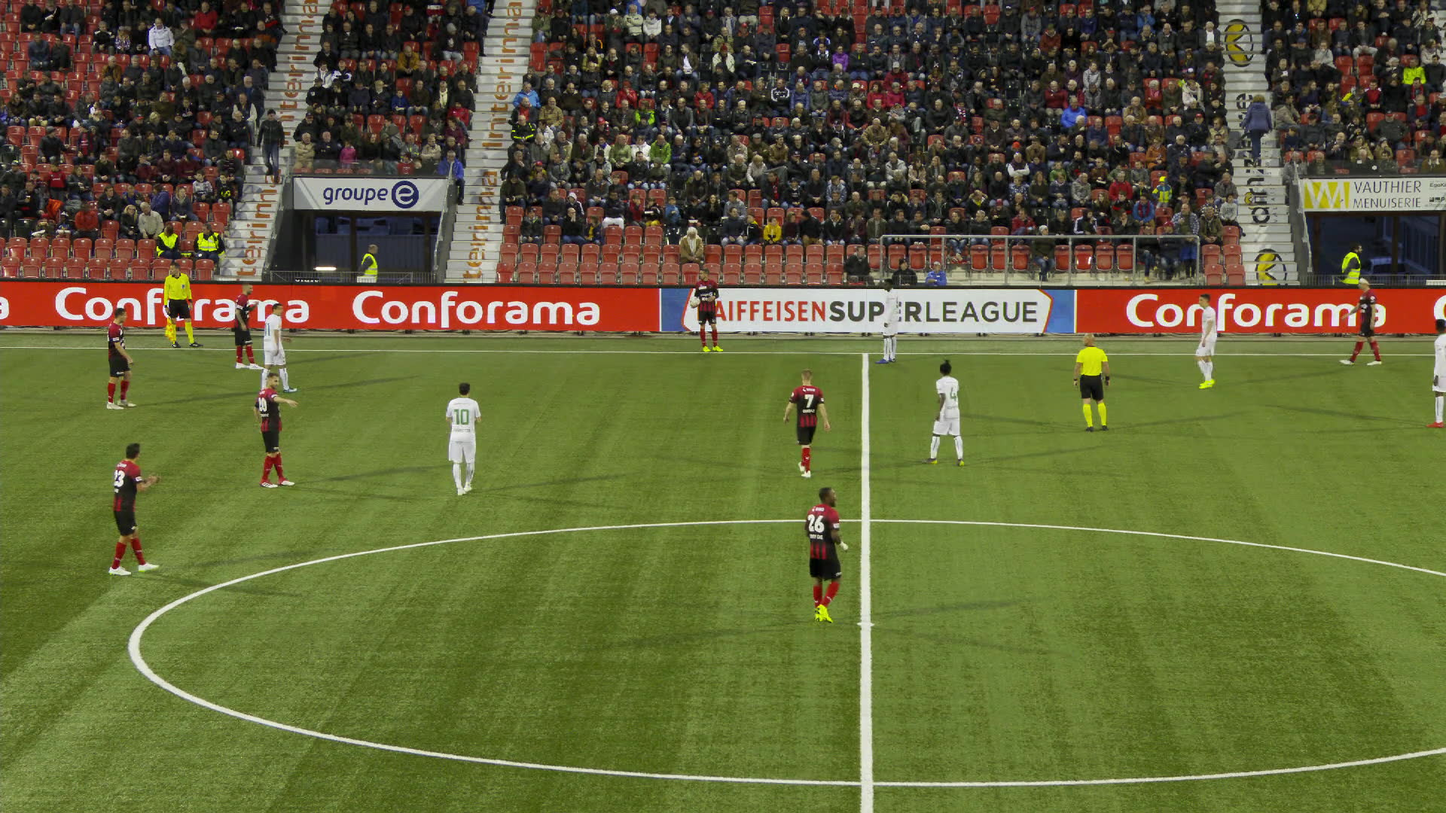ball: (690, 297, 700, 306)
player: (108, 443, 160, 575), (804, 486, 847, 623), (783, 370, 830, 477), (254, 373, 297, 487), (921, 358, 963, 466), (445, 382, 480, 495), (1339, 276, 1382, 365), (261, 303, 296, 392), (106, 307, 136, 409), (690, 267, 722, 351), (234, 282, 263, 370), (1425, 318, 1445, 427), (1194, 293, 1216, 388), (874, 278, 898, 363)
referee: (1073, 332, 1110, 430), (163, 262, 203, 347)
